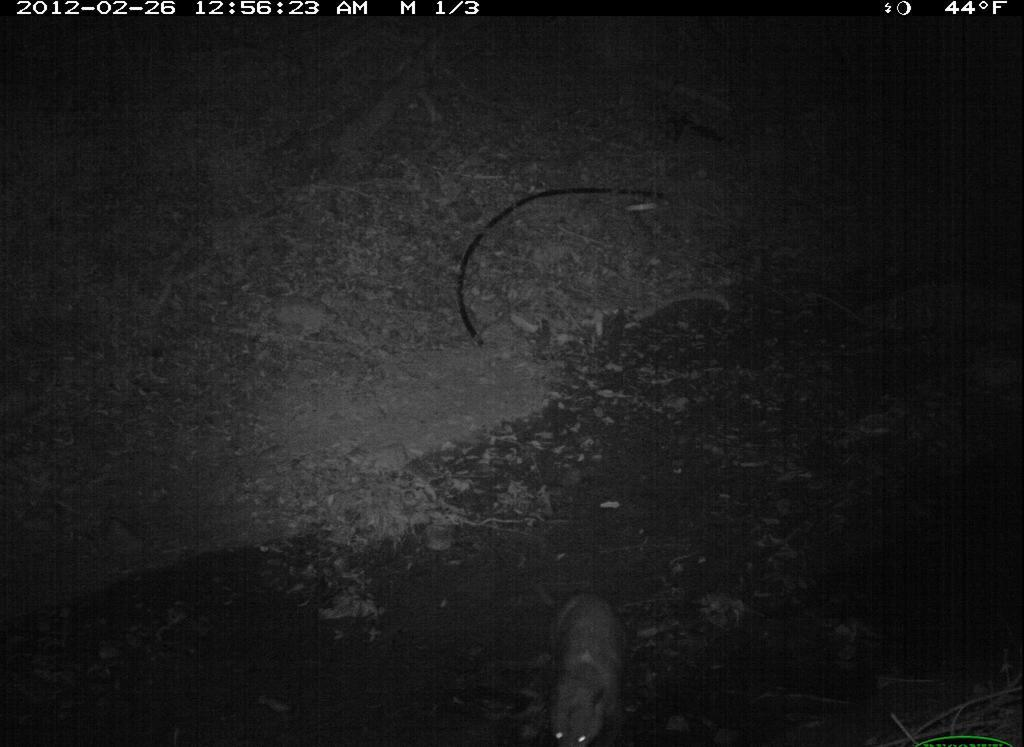opossum: (530, 580, 642, 747)
